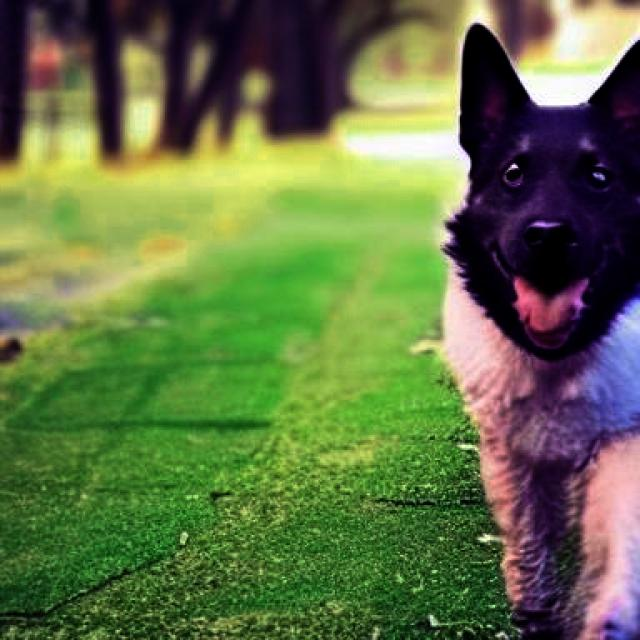Dog: (443, 21, 640, 640)
